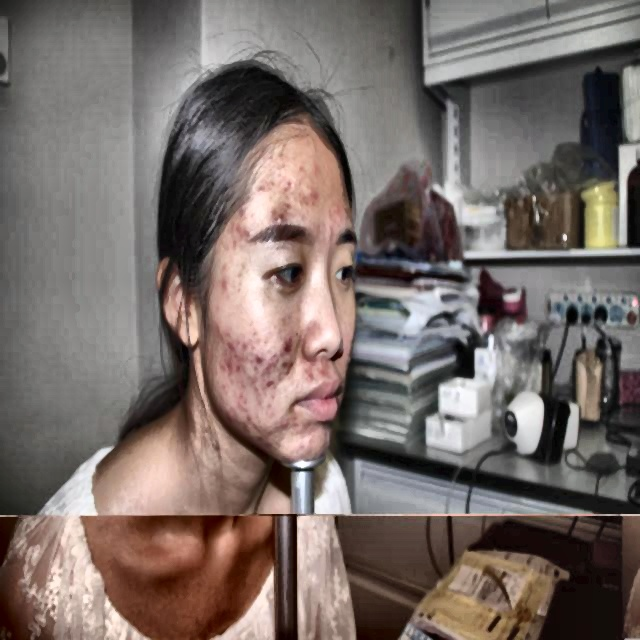nodule: (214, 266, 236, 298), (258, 364, 277, 395), (235, 390, 256, 418), (254, 431, 276, 454), (249, 345, 266, 369), (280, 178, 298, 200), (278, 444, 296, 465), (227, 234, 242, 259), (232, 348, 245, 376), (226, 332, 241, 356), (226, 410, 237, 442), (277, 414, 291, 439), (256, 178, 273, 198), (241, 410, 254, 436), (213, 312, 226, 337), (211, 438, 225, 460), (241, 224, 254, 246), (268, 212, 296, 222), (220, 356, 233, 376), (278, 335, 293, 351), (317, 366, 332, 382), (245, 370, 256, 390), (307, 368, 317, 388), (307, 187, 318, 205), (226, 218, 241, 231), (266, 408, 277, 425), (276, 361, 289, 375), (287, 358, 299, 373), (252, 417, 263, 433), (310, 163, 322, 177), (292, 176, 304, 190), (220, 382, 230, 398), (326, 227, 336, 243), (312, 223, 322, 239), (226, 376, 238, 389), (303, 419, 314, 432), (333, 203, 344, 216), (270, 349, 280, 363), (298, 437, 308, 449), (290, 428, 300, 440), (341, 211, 351, 223), (329, 214, 339, 226), (323, 438, 331, 453), (291, 413, 299, 428), (255, 398, 264, 411), (264, 400, 274, 411), (250, 328, 260, 339), (269, 392, 278, 404), (252, 385, 261, 397), (214, 301, 223, 313), (342, 200, 351, 212), (326, 209, 333, 224), (240, 341, 249, 352), (296, 415, 303, 429), (240, 380, 248, 392), (204, 422, 212, 434), (298, 450, 307, 460), (320, 434, 326, 448), (236, 286, 244, 296), (241, 262, 249, 271), (237, 271, 245, 280), (238, 279, 245, 287)
